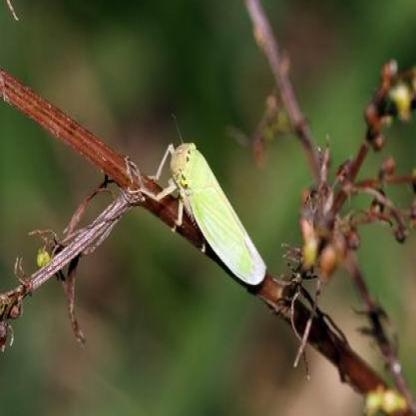Green-Leafhopper: (136, 139, 267, 291)
